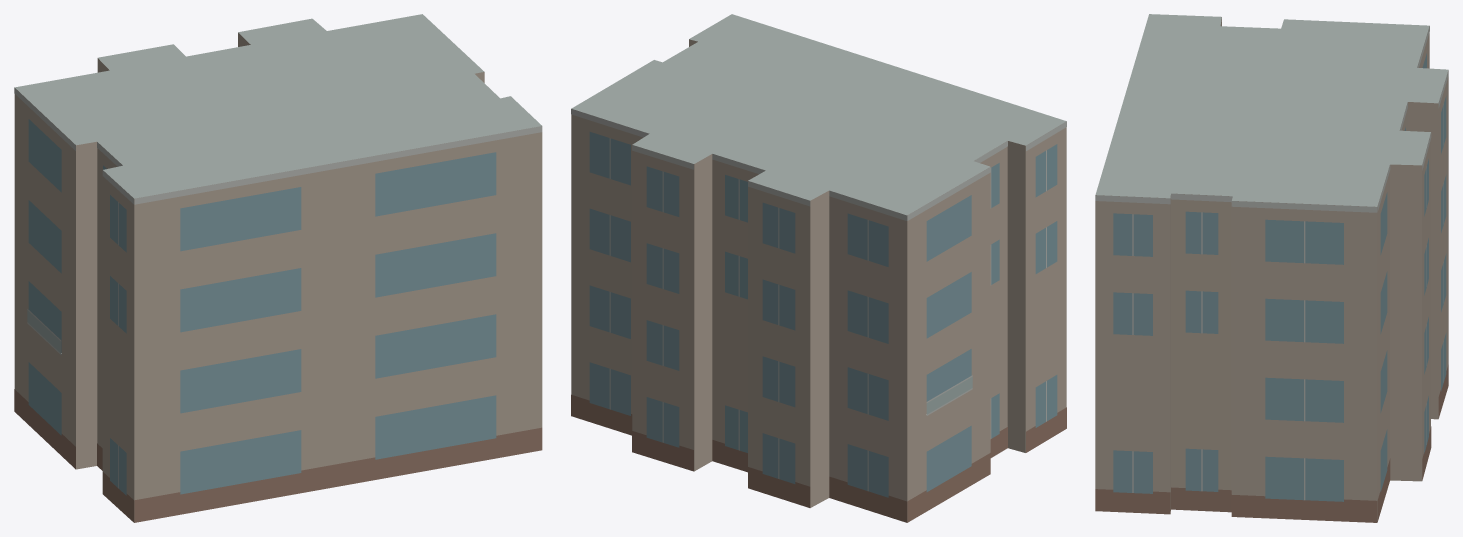
The model's file is survey-upis-32802394.glb.
3 views of the same model, side by side, from view 1: azimuth 30°, elevation 25°; view 2: azimuth 150°, elevation 25°; view 3: azimuth 270°, elevation 25° (orthographic). The views are drawn at different scales.
Parts seen in each view (by area): view 1: survey-upis-32802394.tmp; view 2: survey-upis-32802394.tmp; view 3: survey-upis-32802394.tmp.
Boxes of the visible parts, x1,y1,x2,y2 form: survey-upis-32802394.tmp: (14,14,542,522); survey-upis-32802394.tmp: (571,14,1066,522); survey-upis-32802394.tmp: (1095,14,1448,522).
Size of the model in its own units: 16.96 by 12.95 by 13.13.
